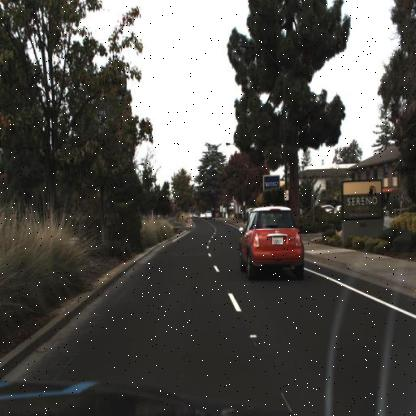car: (237, 204, 307, 276)
